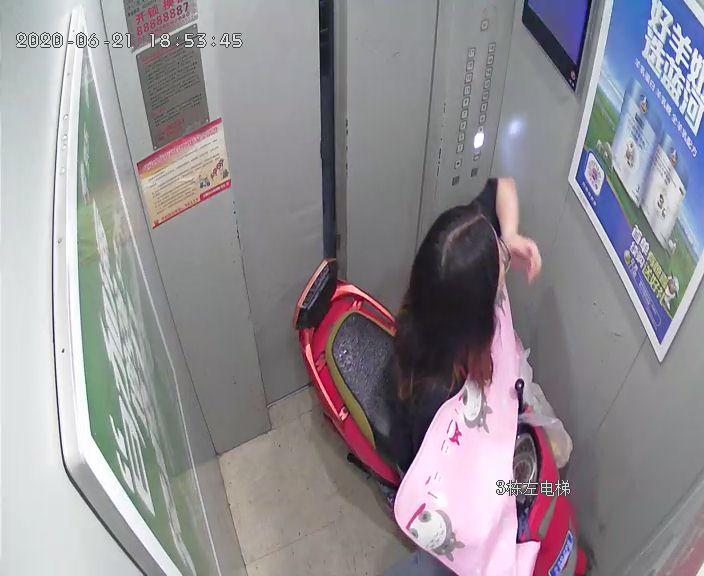Electric-bicycle: (285, 256, 591, 575)
